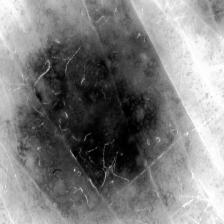Benign Marking or Mole: (6, 1, 191, 224)
